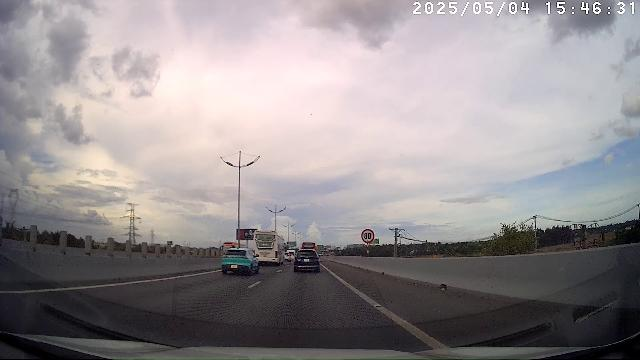127-toc-do-toi-da-80: (361, 228, 375, 243)
